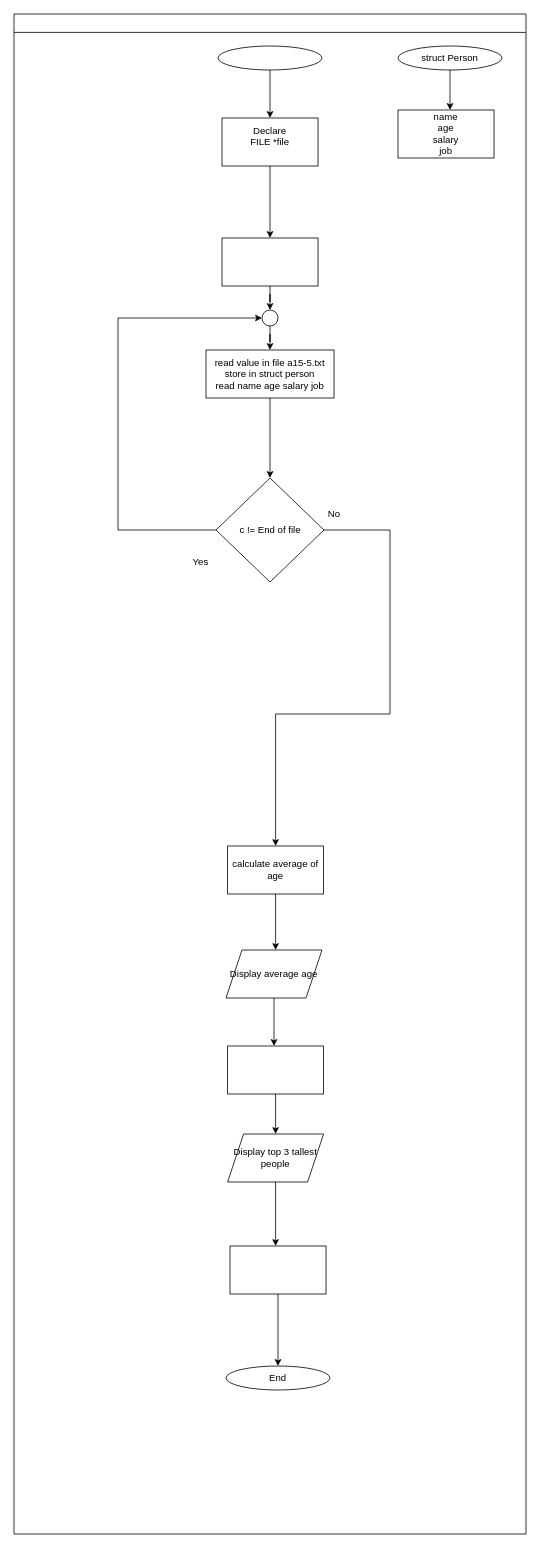
The diagram is 540 pixels wide and 1548 high, and some of its shapes have lost their labels. Here are the shapes that lost their labels. From the top down, the centre of each, then its label:
At (x=269, y=57): "Start".
At (x=269, y=261): "Open file a15-5.txt in read mode".
At (x=275, y=1069): "Sort value in struct using bubble sort".
At (x=277, y=1269): "close file".
